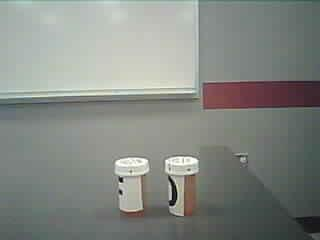Bottle D: (161, 154, 205, 223)
Bottle F: (112, 155, 152, 222)
